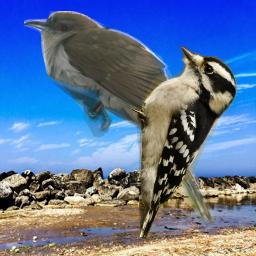Cuckoo: (24, 11, 215, 228)
Woodpecker: (132, 46, 237, 237)
